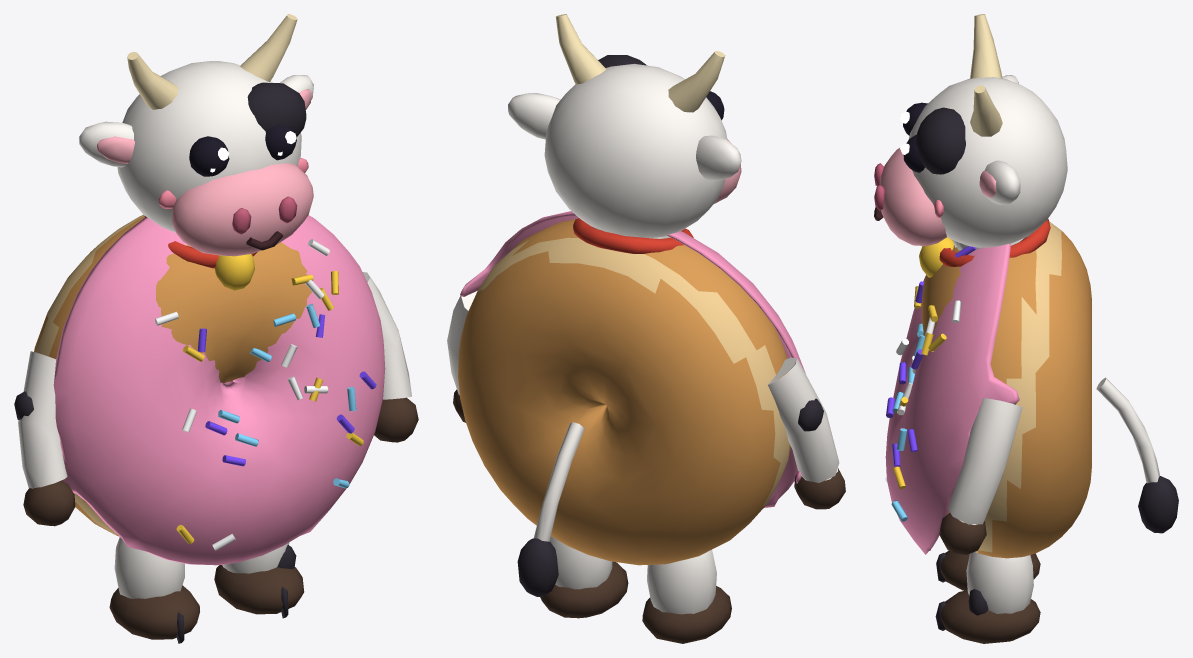
Rendered from pilot_ku2_smultring_lav.glb.
3 views of the same model, side by side, from view 1: azimuth 30°, elevation 25°; view 2: azimuth 150°, elevation 25°; view 3: azimuth 270°, elevation 25° (orthographic). The views are drawn at different scales.
Parts seen in each view (by area): view 1: kropp, hode, vinge_v, bein_vf, bein_hf, vinge_h; view 2: kropp, hode, vinge_v, bein_vf, bein_hf, hale, vinge_h; view 3: kropp, hode, bein_hf, vinge_h, hale, bein_vf.
Part boxes in pixels (bbox=[...]): kropp: bbox=[34, 214, 385, 565]; hode: bbox=[79, 14, 313, 290]; vinge_v: bbox=[14, 351, 75, 526]; bein_vf: bbox=[109, 537, 199, 643]; bein_hf: bbox=[214, 542, 304, 618]; vinge_h: bbox=[362, 272, 418, 442]; kropp: bbox=[458, 211, 805, 565]; hode: bbox=[508, 14, 741, 253]; vinge_v: bbox=[768, 357, 845, 509]; bein_vf: bbox=[642, 549, 731, 643]; bein_hf: bbox=[540, 536, 628, 618]; hale: bbox=[517, 422, 584, 596]; vinge_h: bbox=[447, 291, 477, 422]; kropp: bbox=[885, 221, 1091, 558]; hode: bbox=[874, 14, 1067, 277]; bein_hf: bbox=[935, 552, 1040, 643]; vinge_h: bbox=[939, 398, 1022, 554]; hale: bbox=[1096, 377, 1178, 533]; bein_vf: bbox=[936, 550, 1040, 590].
Size of the model in its own units: 1.27 by 1.84 by 0.9019.
